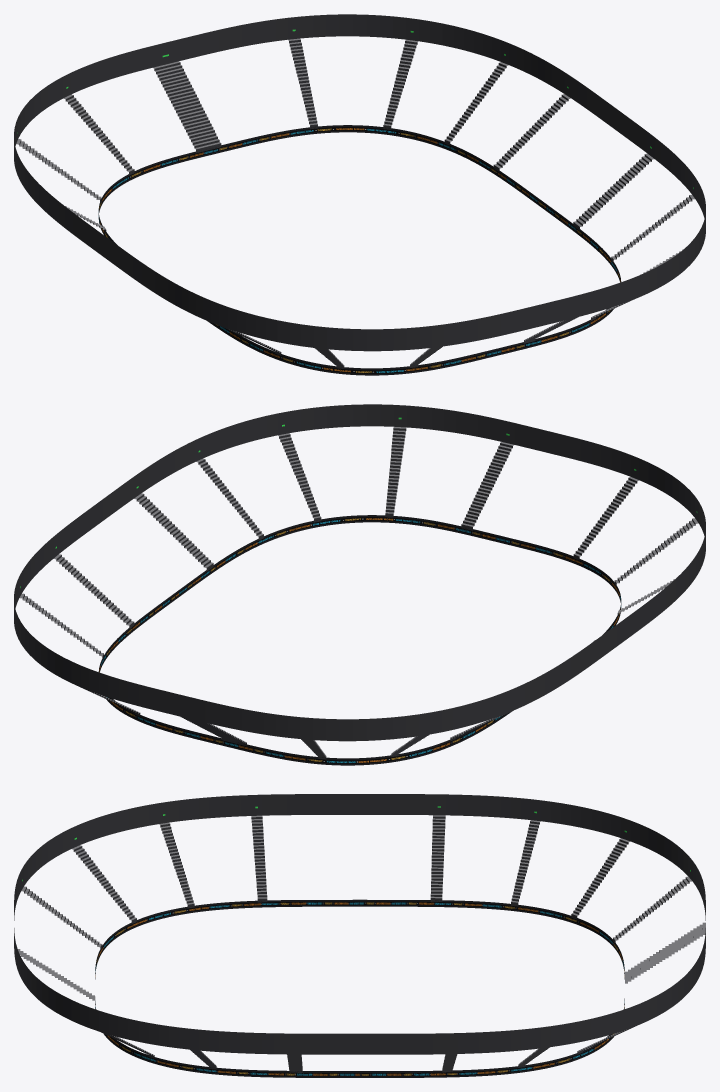
File: BowlUpper.obj
The picture shows the model from 3 angles, top to bottom: view 1: azimuth 30°, elevation 25°; view 2: azimuth 150°, elevation 25°; view 3: azimuth 270°, elevation 25°; orthographic projection. The views are drawn at different scales.
Visible parts, largest first — view 1: BowlUpper; view 2: BowlUpper; view 3: BowlUpper.
Boxes of the visible parts, left/top/right/bottom form: BowlUpper: left=14, top=14, right=705, bottom=375; BowlUpper: left=14, top=404, right=705, bottom=765; BowlUpper: left=14, top=794, right=705, bottom=1077.
Bounding box in the file's own units: 164 × 25 × 200.
Materials: 3 (3 with a texture image).
